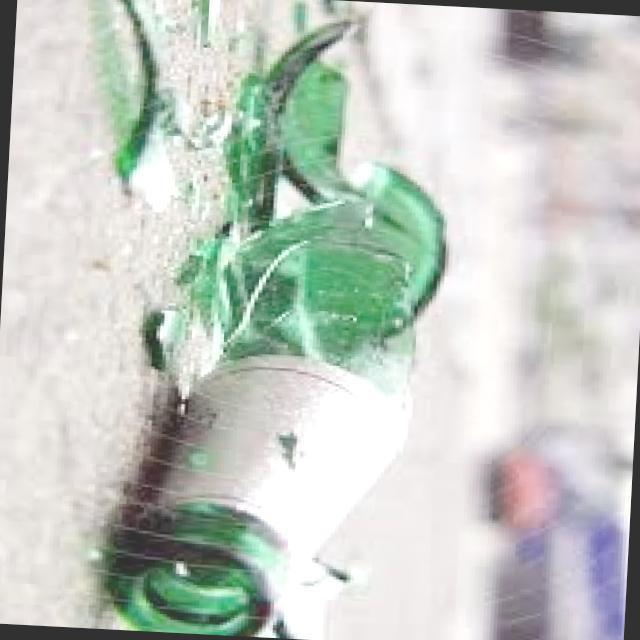Dry: (234, 144, 451, 413), (227, 17, 383, 205), (167, 233, 240, 390), (107, 32, 180, 188)
